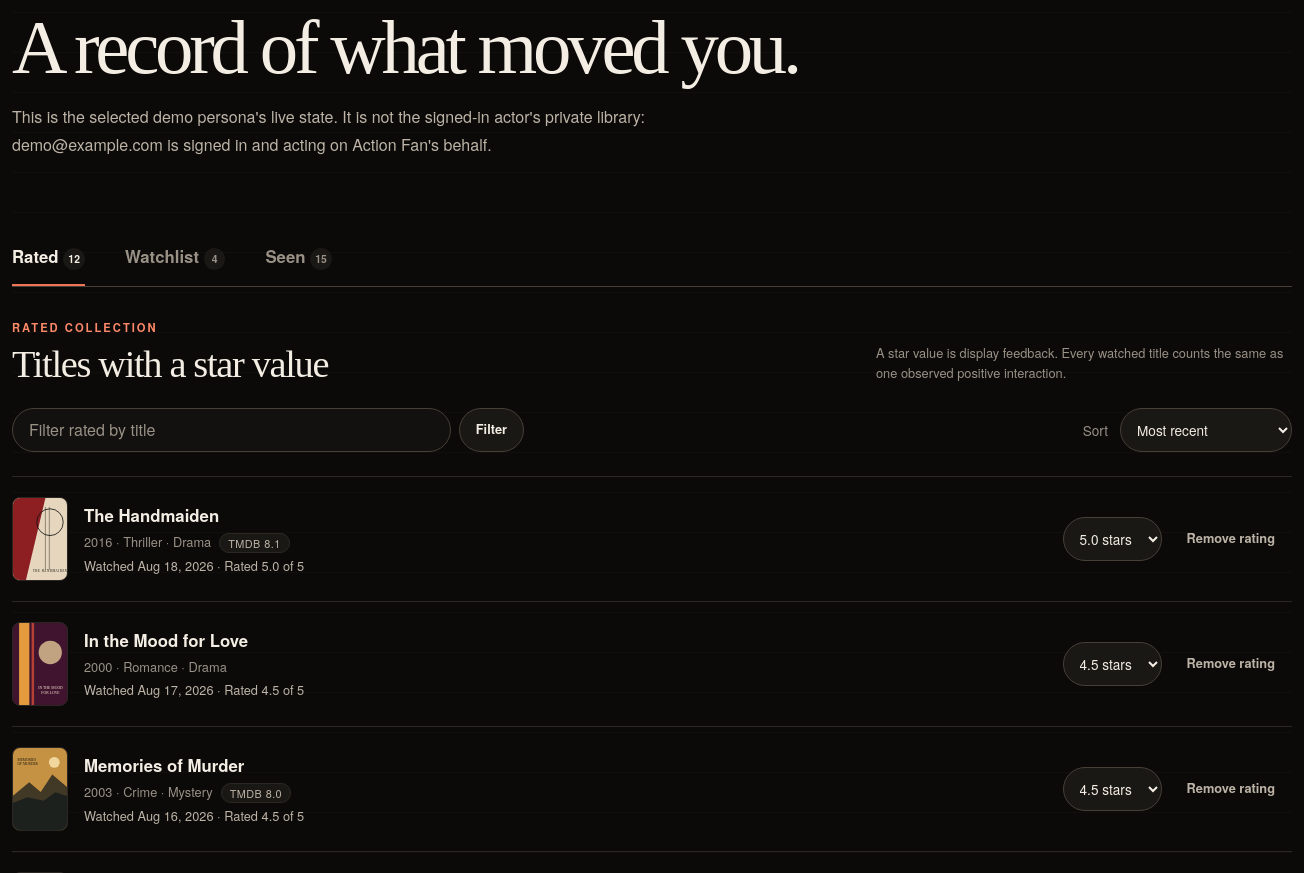
Test: collections load independently and own their URL state › writes the selected tab to the URL and loads that collection on its own
The image size is (1304, 873).
Click the tab "Watchlist 4" at (175, 258), box top-left (125, 230), bottom-right (225, 286)
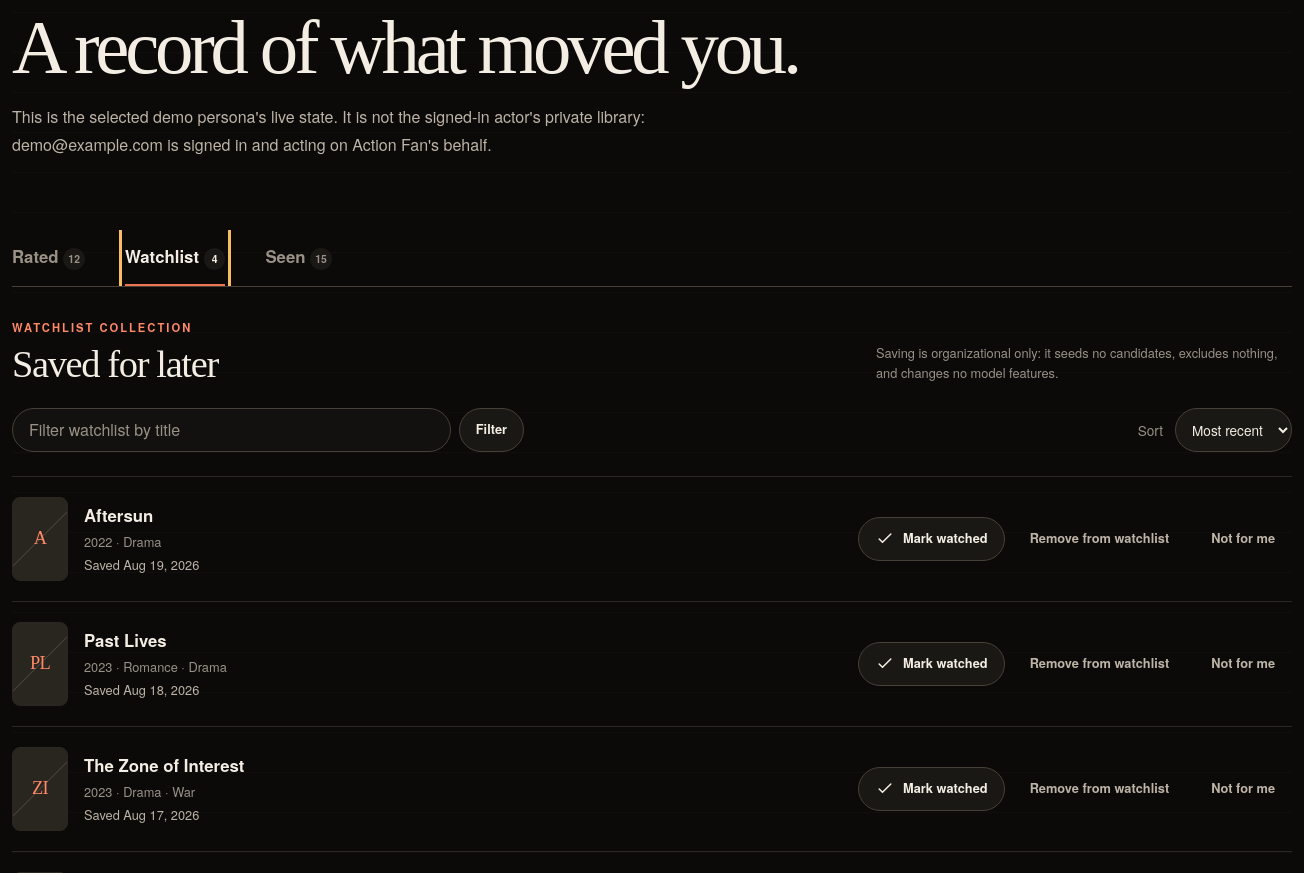
Result: the link "Aftersun" is shown at top-left (84, 503), bottom-right (153, 527)
